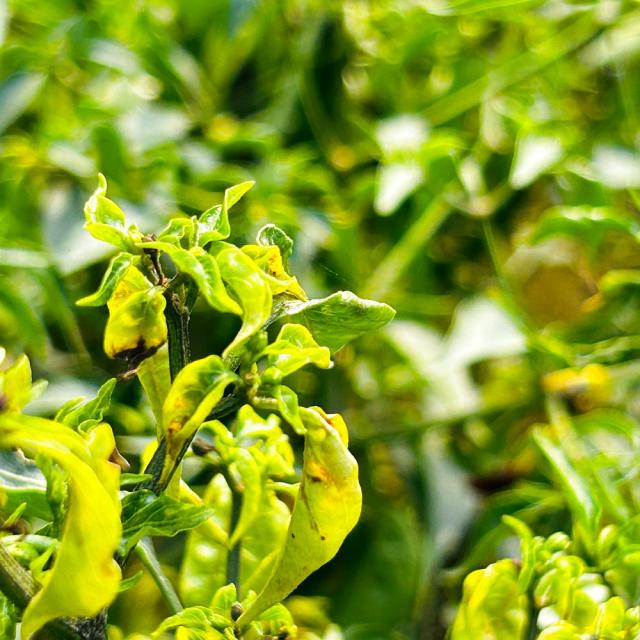Chilli_Leaf_Curl: (2, 1, 637, 638), (1, 172, 397, 638), (0, 349, 130, 638), (232, 404, 363, 633), (139, 353, 244, 495)
